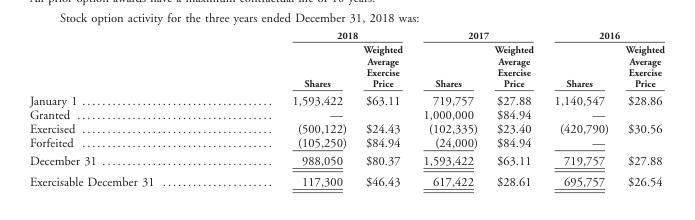table: (28, 29, 663, 188)
table column: (28, 29, 222, 188), (222, 29, 354, 188), (412, 29, 485, 188), (543, 29, 616, 188), (354, 29, 412, 188), (485, 29, 543, 188), (616, 29, 663, 188)
table column header: (28, 29, 663, 91)
table row: (28, 42, 663, 91), (28, 151, 663, 170), (28, 170, 663, 188), (28, 91, 663, 107), (28, 135, 663, 151), (28, 107, 663, 121), (28, 121, 663, 135), (28, 29, 663, 42)
table spanning cell: (222, 29, 412, 42), (412, 29, 543, 42), (543, 29, 663, 42)
